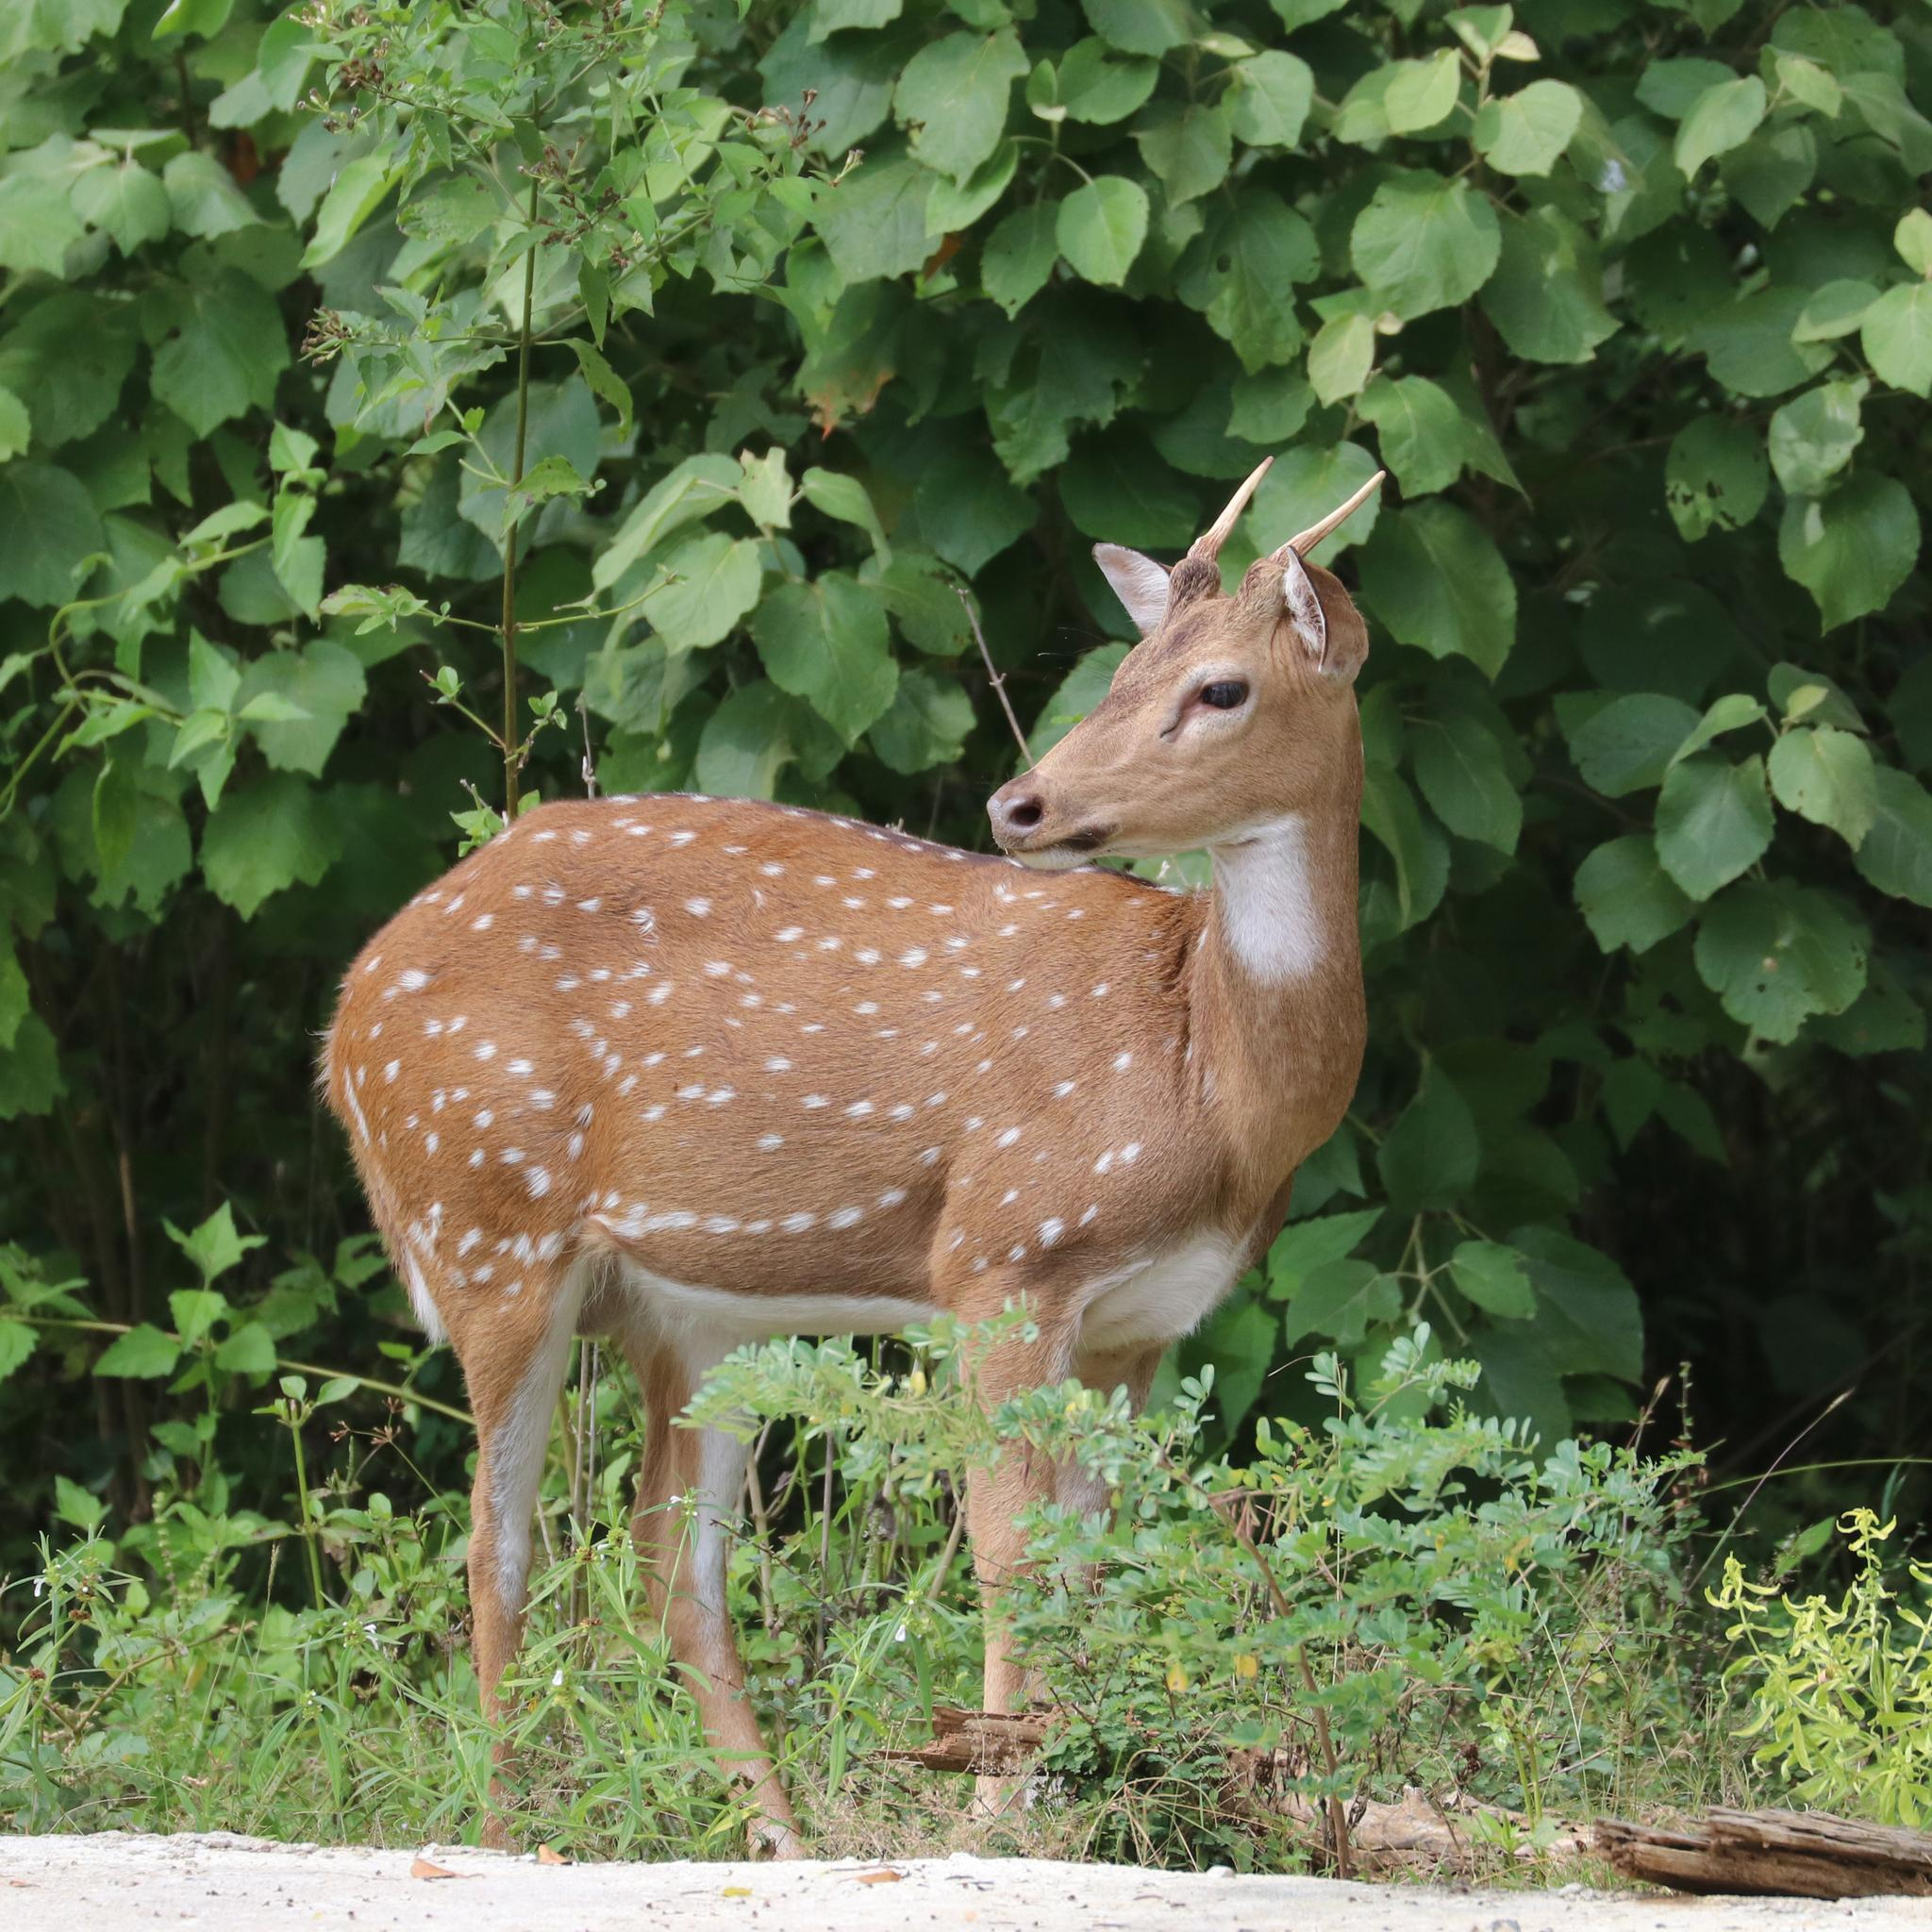Deer: (320, 462, 1385, 1856)
